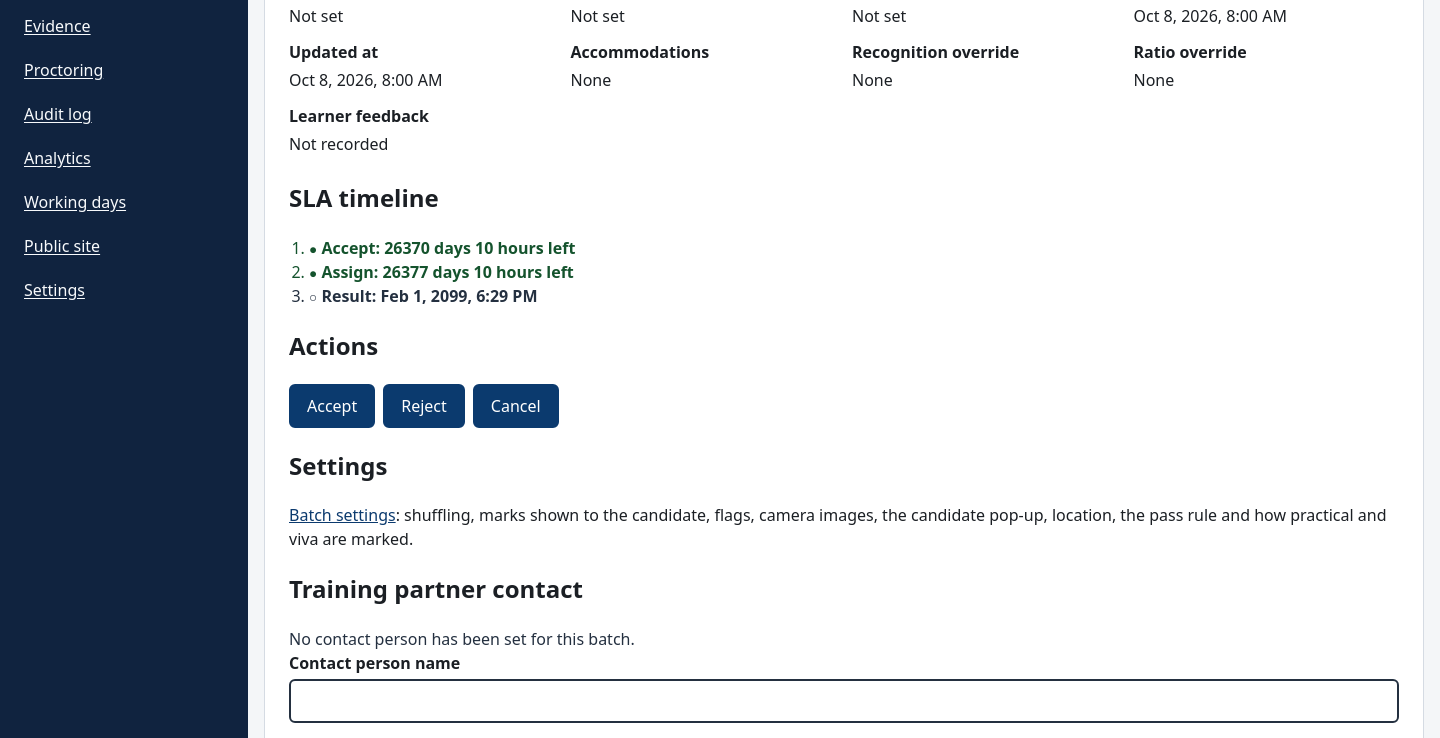
Test case: retries accept with a late reason after SLA_ACCEPT_EXPIRED
(page scrolled)
Click the button "Accept" at point(332, 406), box [289, 384, 375, 428]
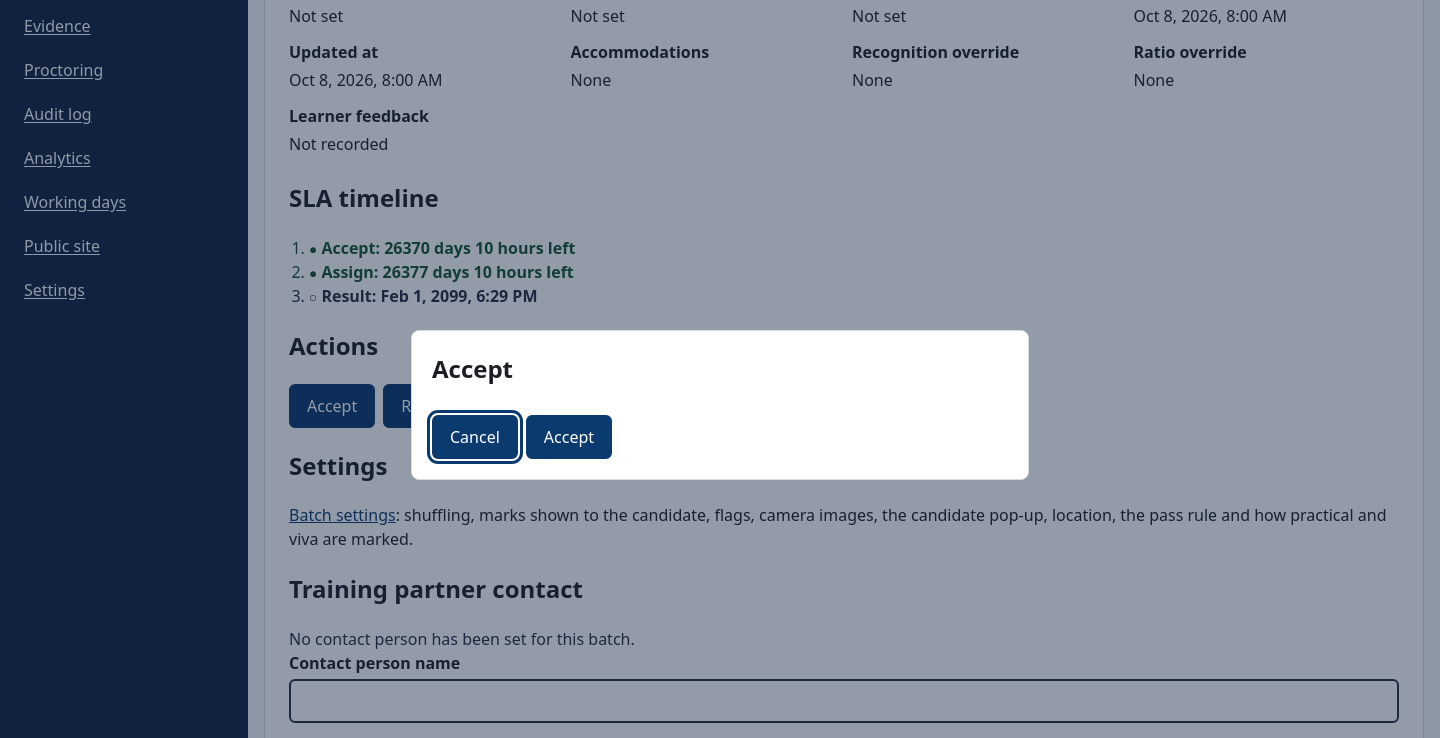
Click the button "Accept" at point(569, 437), box [526, 415, 612, 459]
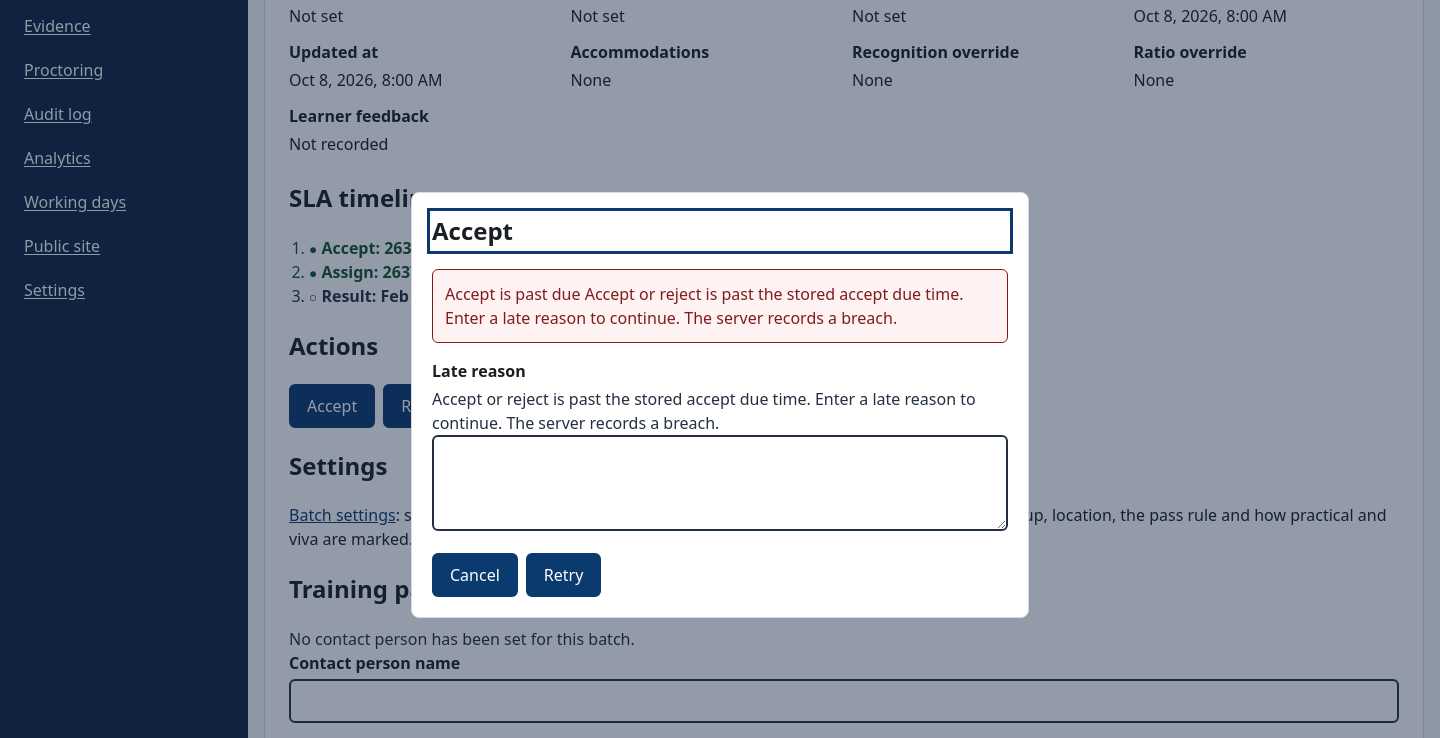
Now the text box labelled "Late reason" is shown
Now the message shows "past the stored accept due time", box [445, 283, 964, 329]
Type "AB confirmation delayed" into the text box labelled "Late reason" at point(720, 483), box [432, 435, 1008, 531]
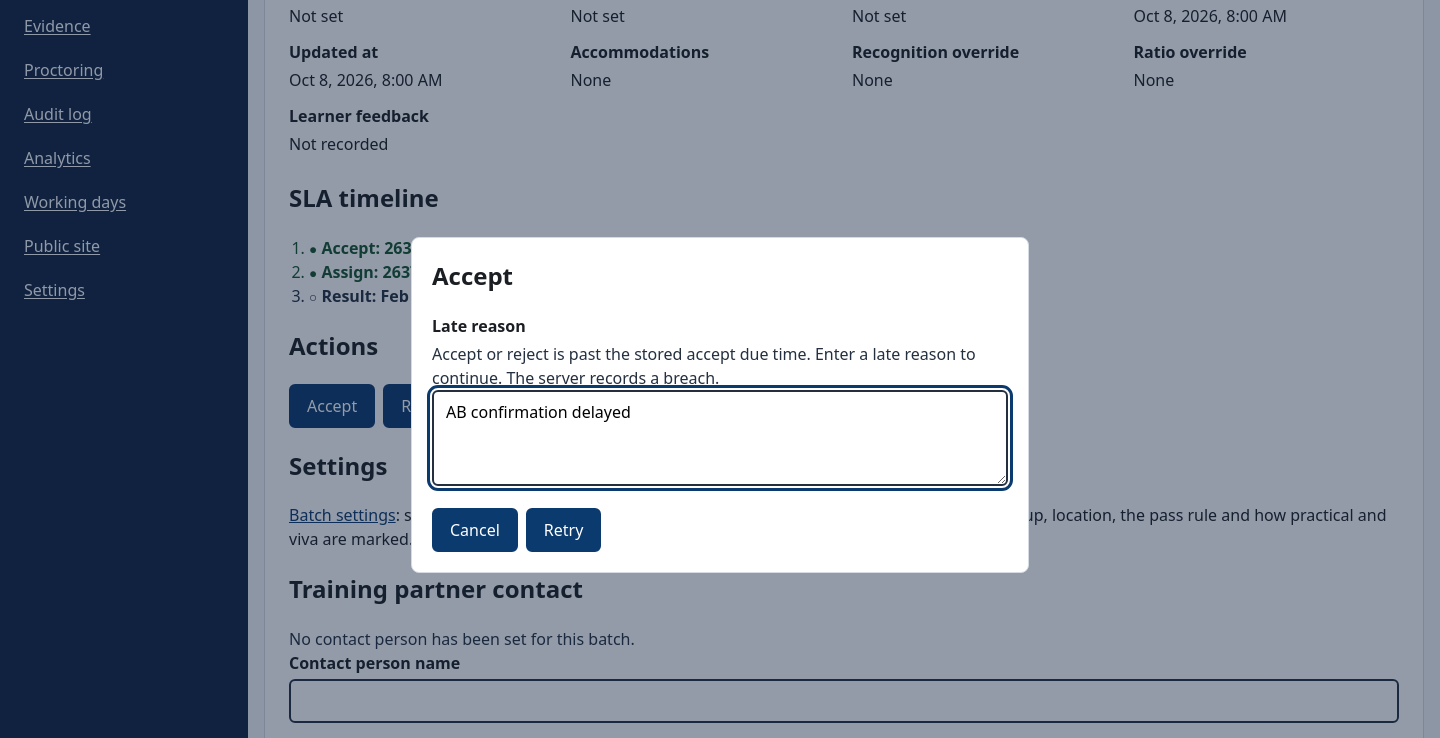
Click the button "Retry" at point(564, 530), box [526, 508, 601, 552]
(page scrolled)
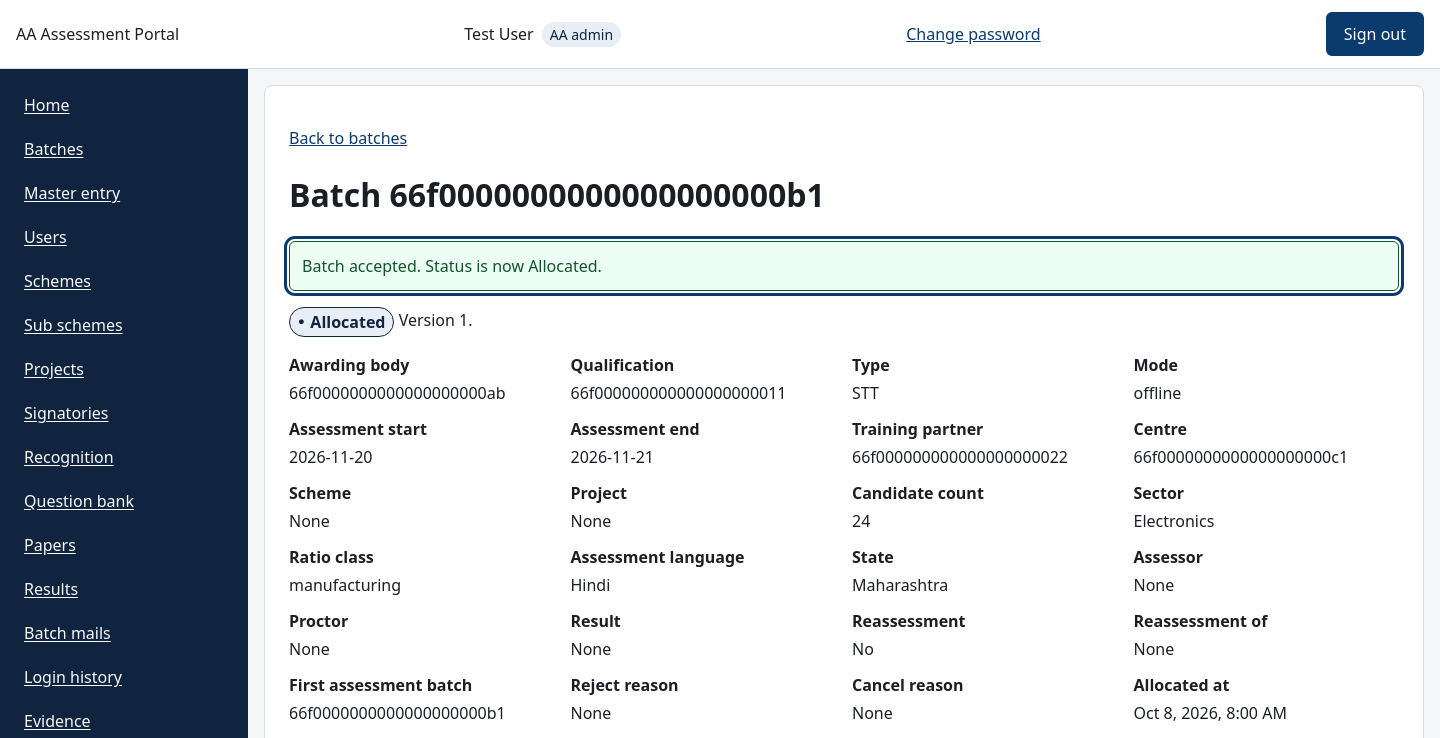
Now the text "Batch accepted. Status is now Allocated." is shown, box [289, 241, 1399, 291]
